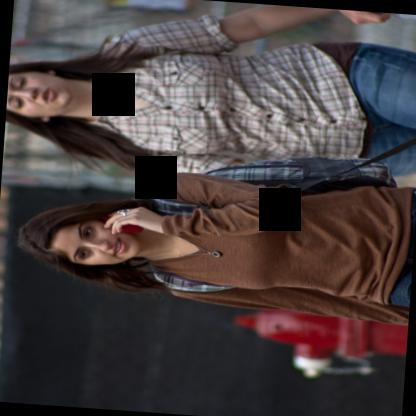backpack: (150, 155, 398, 293)
